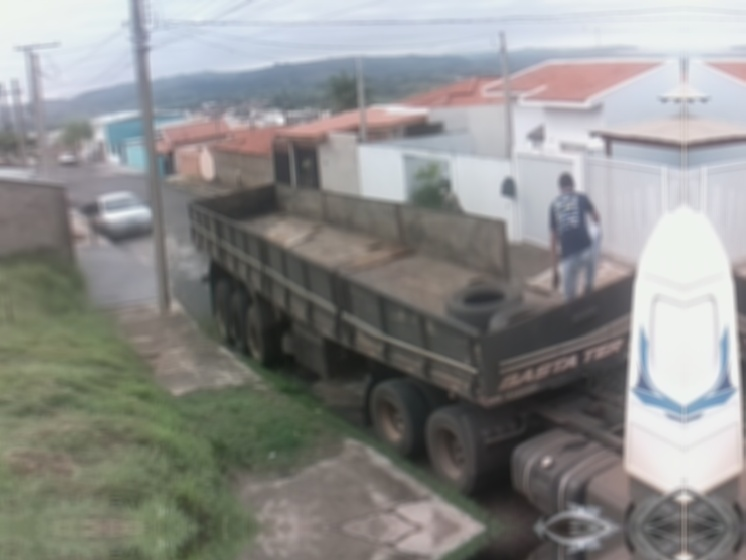person: (548, 171, 602, 304), (437, 189, 465, 214)
